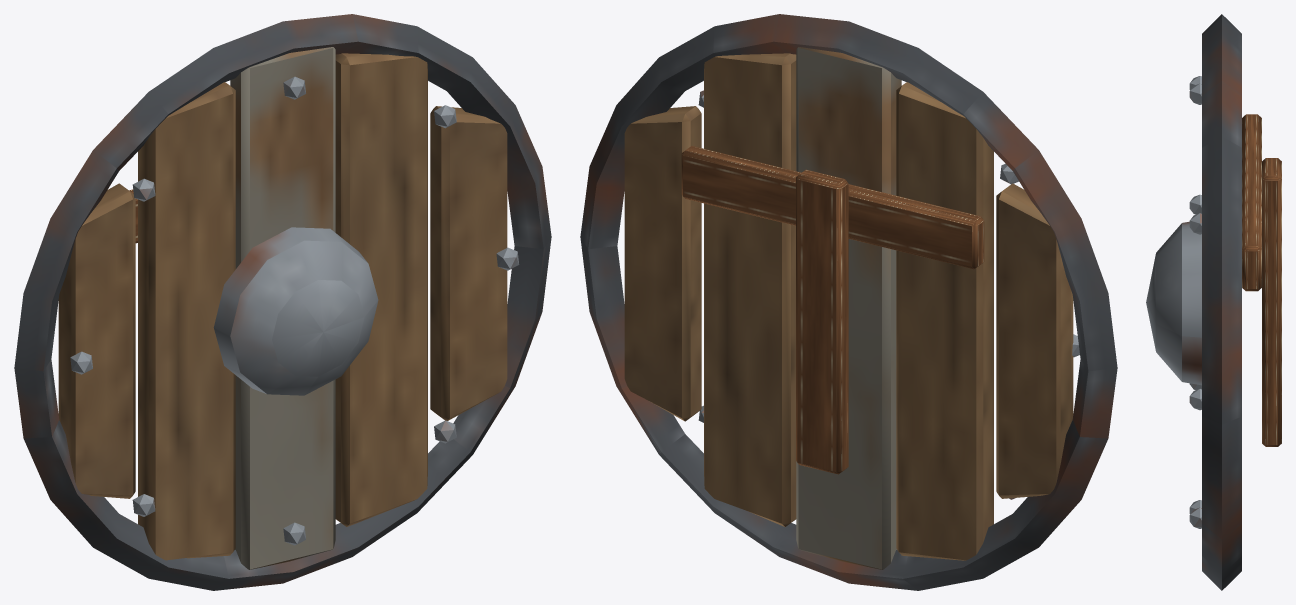
The model's file is SM_Shield.fbx.
The picture shows the model from 3 angles, left to right: view 1: azimuth 30°, elevation 25°; view 2: azimuth 150°, elevation 25°; view 3: azimuth 270°, elevation 25°; orthographic projection. The views are drawn at different scales.
Visible parts, largest first — view 1: SM_Shield; view 2: SM_Shield; view 3: SM_Shield.
Part boxes in pixels (x1=…): SM_Shield: x1=14, y1=14, x2=551, y2=590; SM_Shield: x1=580, y1=14, x2=1117, y2=590; SM_Shield: x1=1146, y1=14, x2=1281, y2=590.
Bounding box in the file's own units: 2.9 × 2.9 × 0.68.
Materials: 1 (1 with a texture image).
